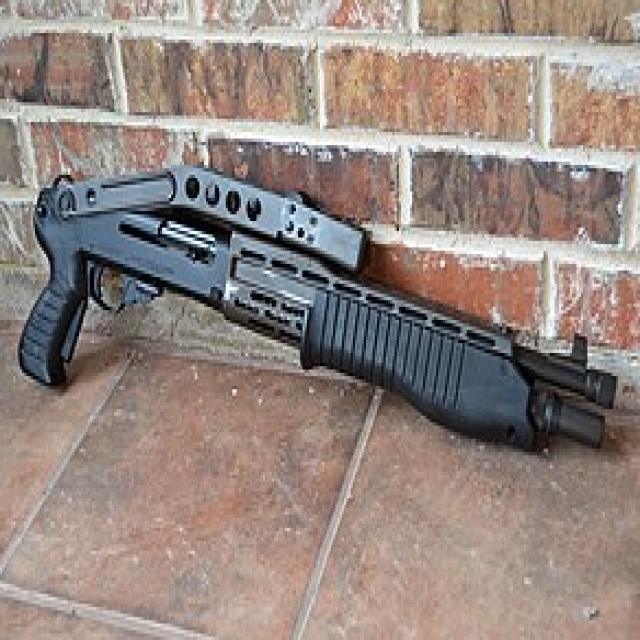Weapon: (18, 165, 614, 445)
